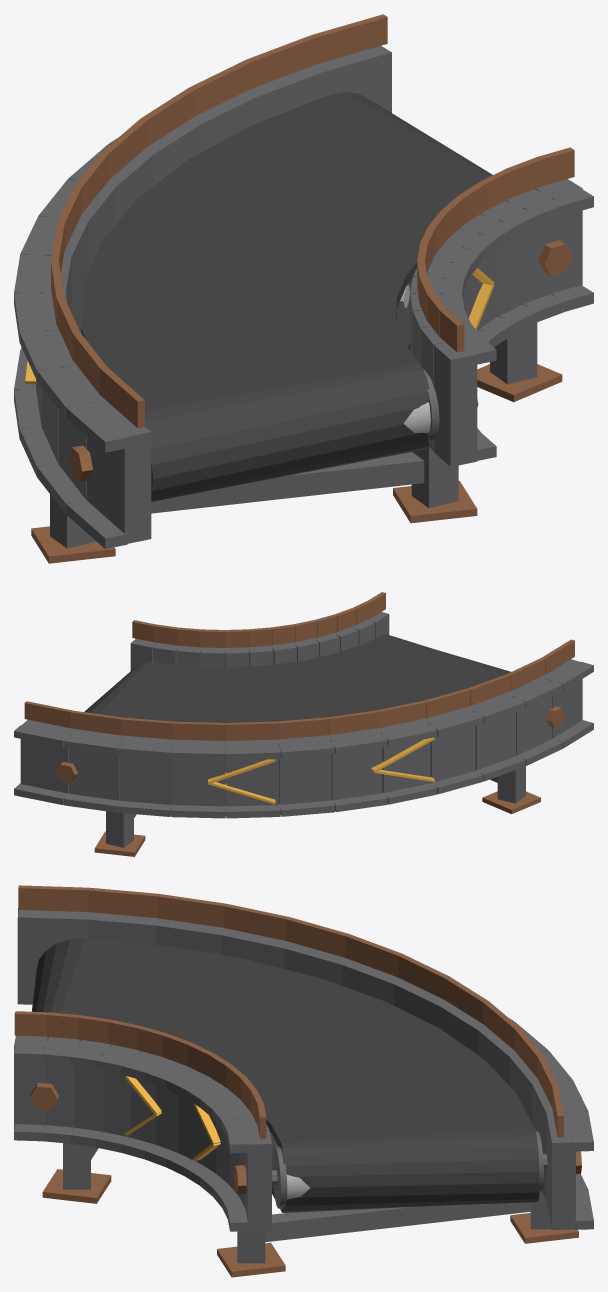
File: feConveyorCorner.fbx
3 renders of one model, top to bottom at view 1: azimuth 30°, elevation 25°; view 2: azimuth 150°, elevation 25°; view 3: azimuth 270°, elevation 25°, orthographic. The views are drawn at different scales.
Visible parts, largest first — view 1: feConveyorCorner_Belt, feConveyorCorner_Frame, feConveyorCorner_RollerIn; view 2: feConveyorCorner_Frame, feConveyorCorner_Belt; view 3: feConveyorCorner_Frame, feConveyorCorner_Belt, feConveyorCorner_RollerOut.
Boxes of the visible parts, bbox=[...] form: feConveyorCorner_Belt: bbox=[81, 92, 492, 501]; feConveyorCorner_Frame: bbox=[14, 14, 593, 563]; feConveyorCorner_RollerIn: bbox=[404, 369, 439, 443]; feConveyorCorner_Frame: bbox=[14, 592, 593, 856]; feConveyorCorner_Belt: bbox=[84, 634, 510, 740]; feConveyorCorner_Frame: bbox=[14, 885, 593, 1277]; feConveyorCorner_Belt: bbox=[32, 938, 539, 1212]; feConveyorCorner_RollerOut: bbox=[272, 1131, 547, 1208].
Bounding box in the file's own units: 0.7249 × 0.237 × 0.7249.
